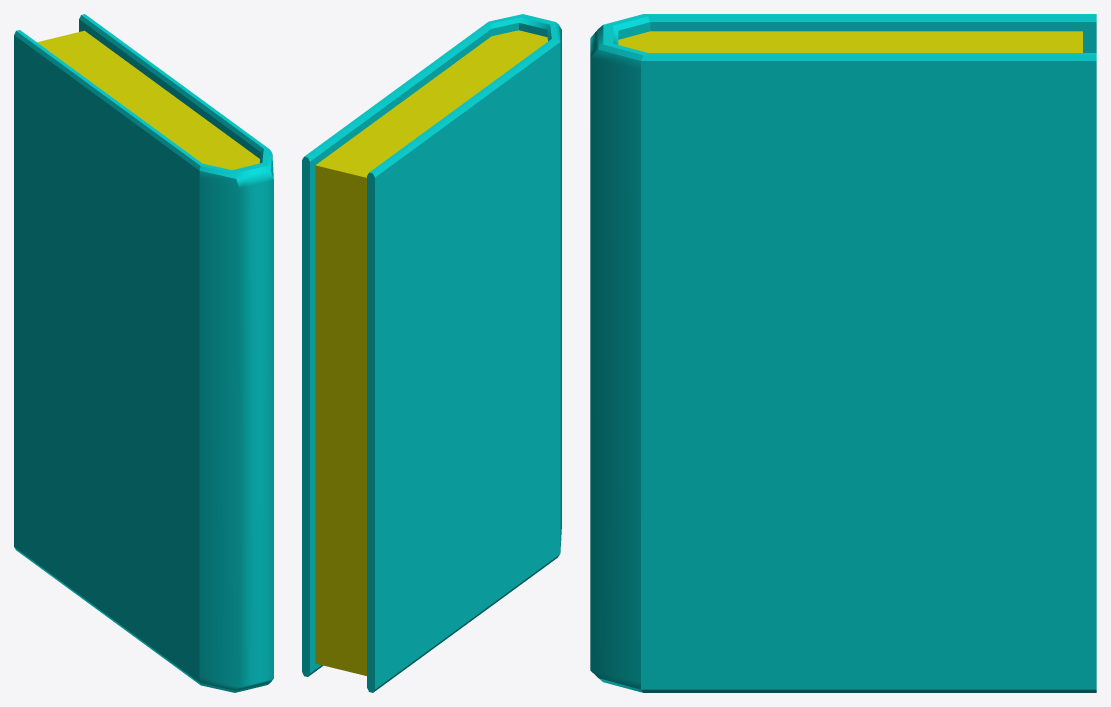
Rendered from SkinnyBook.fbx.
3 renders of one model, left to right at view 1: azimuth 30°, elevation 25°; view 2: azimuth 150°, elevation 25°; view 3: azimuth 270°, elevation 25°, orthographic. The views are drawn at different scales.
Visible parts, largest first — view 1: SkinnyBook; view 2: SkinnyBook; view 3: SkinnyBook.
Boxes of the visible parts, <box> form: SkinnyBook: <box>14,14,273,692</box>; SkinnyBook: <box>302,14,561,692</box>; SkinnyBook: <box>590,14,1096,692</box>.
Size of the model in its own units: 0.1529 by 1.04 by 0.7501.
